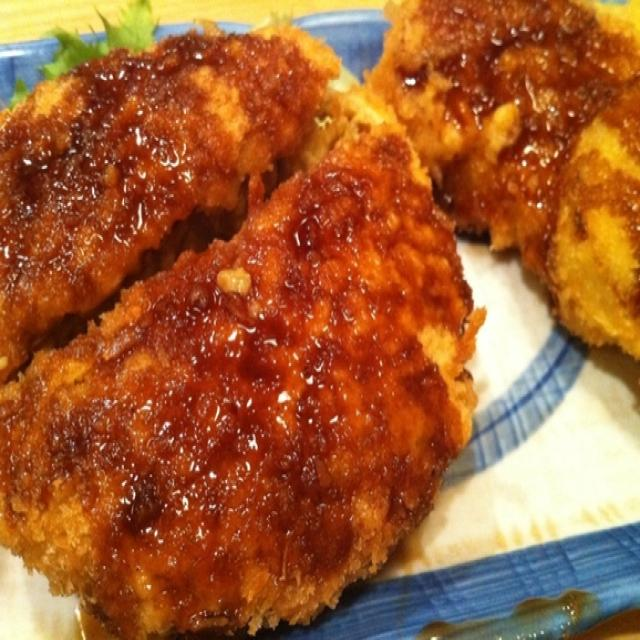炸货点心: (3, 11, 636, 604)
